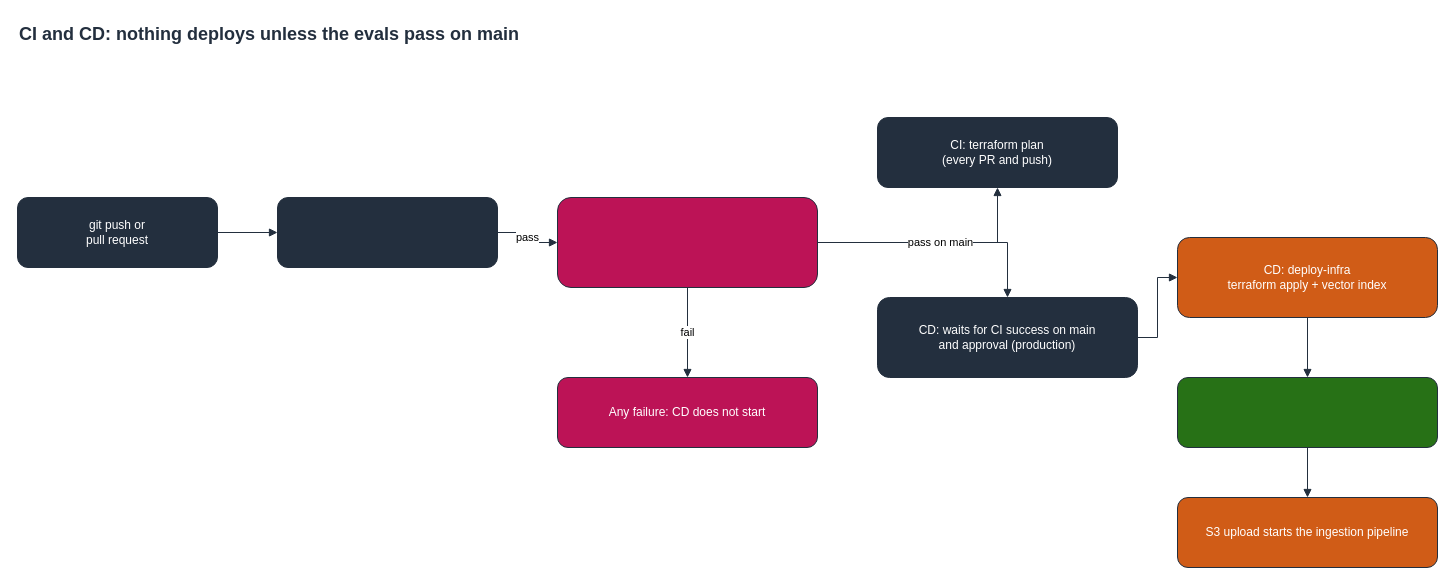
The diagram is 1455 pixels wide and 585 high, and some of its shapes have lost their labels. Here are the shapes that lost their labels. From the top down, the box of each, then its label:
(276, 196, 498, 268): CI: test ruff, pytest, gitleaks
(556, 196, 818, 288): CI: evals build golden set, run evals (100% required)
(1176, 376, 1438, 448): CD: deploy-data generate docs, sync S3
